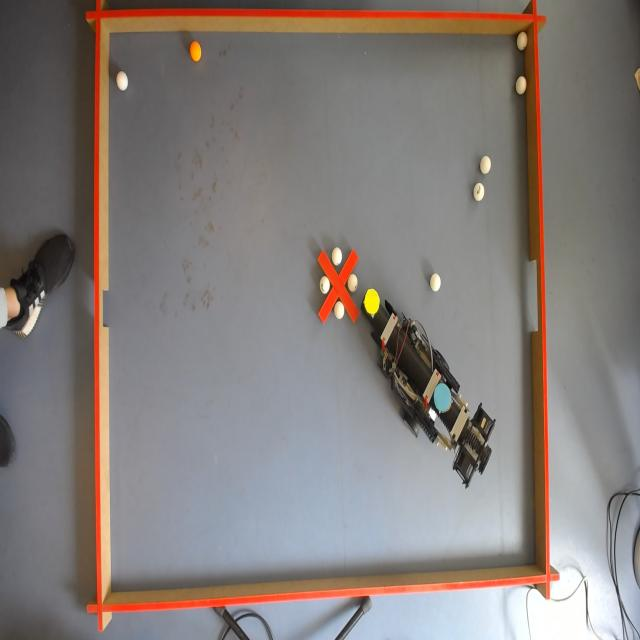orange: (188, 40, 204, 61)
robot: (362, 287, 496, 488)
robot-front: (366, 290, 381, 314)
robot-rear: (432, 382, 452, 414)
white: (116, 71, 128, 94), (516, 32, 529, 52), (430, 272, 443, 292), (332, 249, 344, 268), (515, 76, 526, 96), (479, 156, 491, 174), (332, 302, 343, 320), (474, 185, 485, 202), (348, 275, 358, 289), (321, 277, 330, 292)
